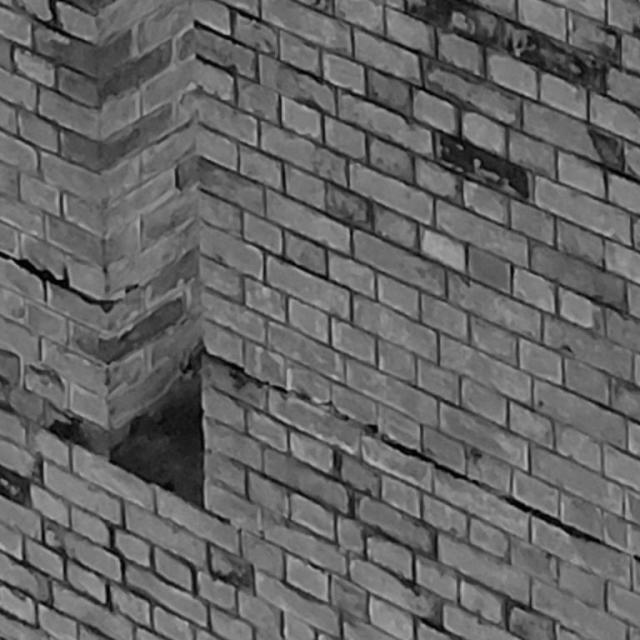crack: (200, 340, 640, 562), (1, 251, 140, 313)
